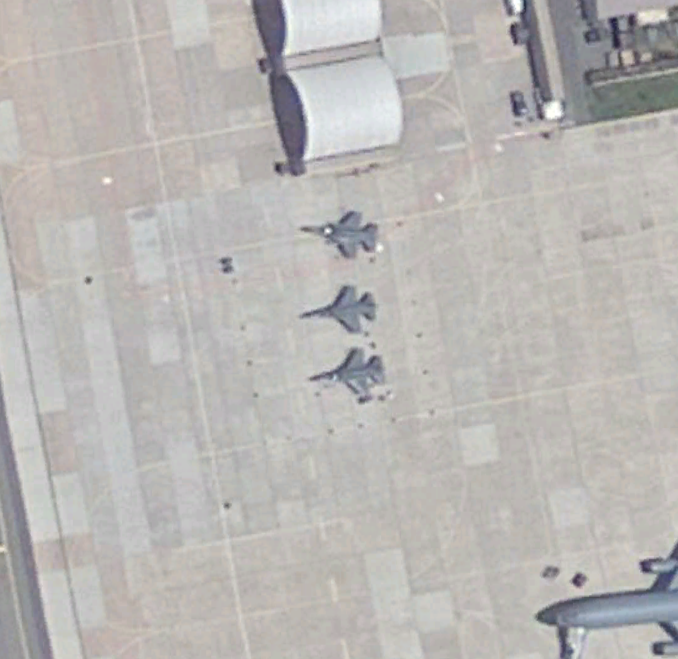A5: (295, 203, 388, 265), (293, 278, 386, 340), (304, 344, 397, 406)
